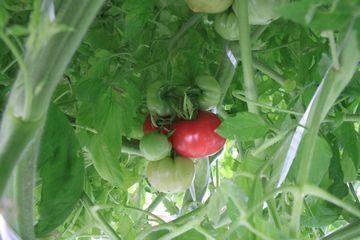tomato: (170, 111, 227, 159), (146, 156, 195, 193), (145, 80, 180, 117), (191, 76, 223, 111), (138, 130, 174, 161), (144, 108, 173, 139)
